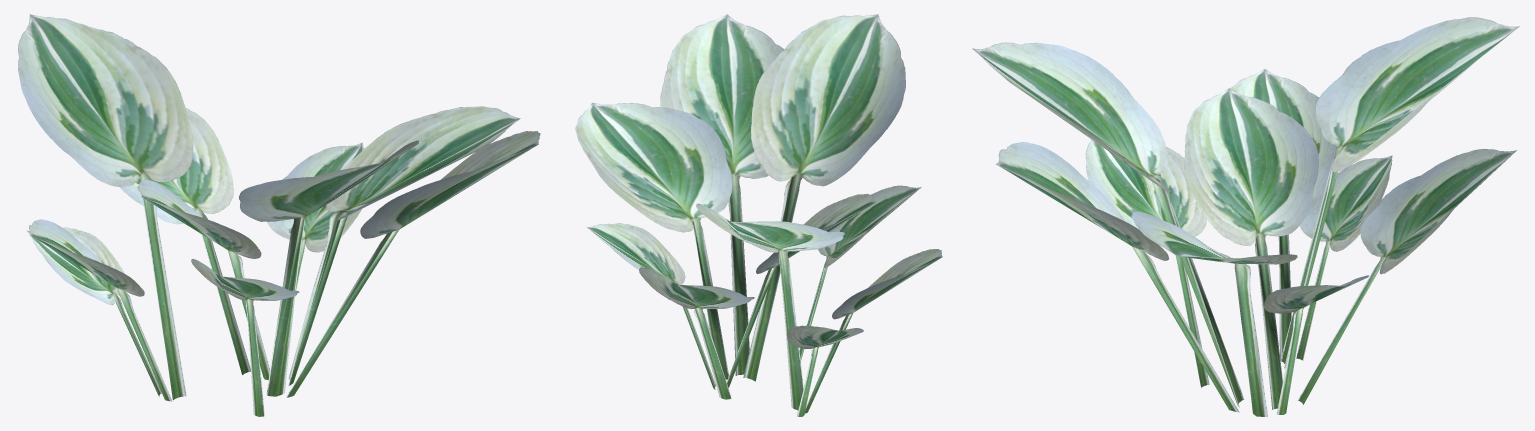
File: plant_small_wg_01Q.fbx
3 views of the same model, side by side, from view 1: azimuth 30°, elevation 25°; view 2: azimuth 150°, elevation 25°; view 3: azimuth 270°, elevation 25° (orthographic). The views are drawn at different scales.
Visible parts, largest first — view 1: plant_small_wg_01Q; view 2: plant_small_wg_01Q; view 3: plant_small_wg_01Q.
Boxes of the visible parts, bbox=[...] form: plant_small_wg_01Q: bbox=[18, 14, 540, 416]; plant_small_wg_01Q: bbox=[575, 14, 942, 416]; plant_small_wg_01Q: bbox=[972, 17, 1519, 416].
Size of the model in its own units: 72.5 by 51.43 by 73.95.
